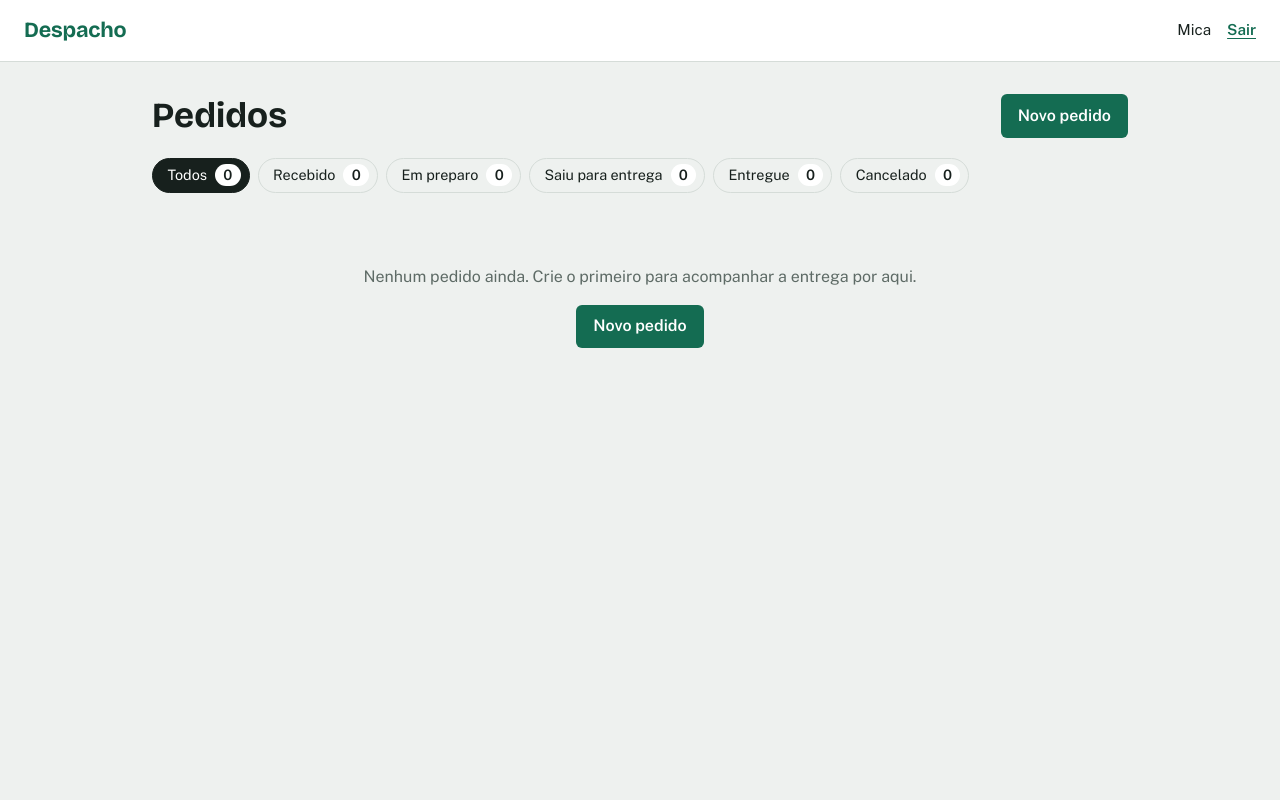
OrdersPage › com o painel aberto, o resto da tela fica inerte, e ao fechar o foco volta ao botão
Step 1. Click the button "Novo pedido" in the row of "Pedidos" → (1064, 116), box x1=1001 y1=94 x2=1128 y2=138
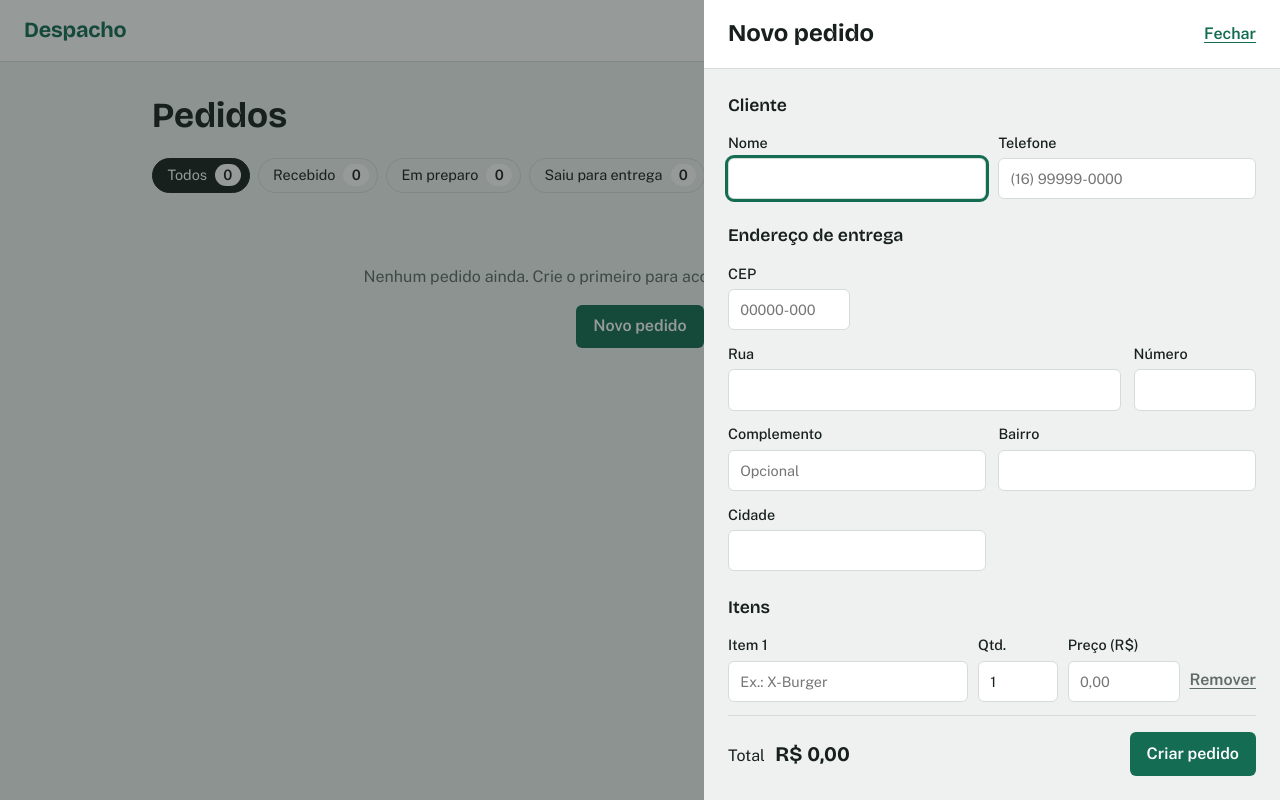
Expected: the dialog "Novo pedido" is shown, x1=704 y1=0 x2=1279 y2=799
Step 2. Press Escape
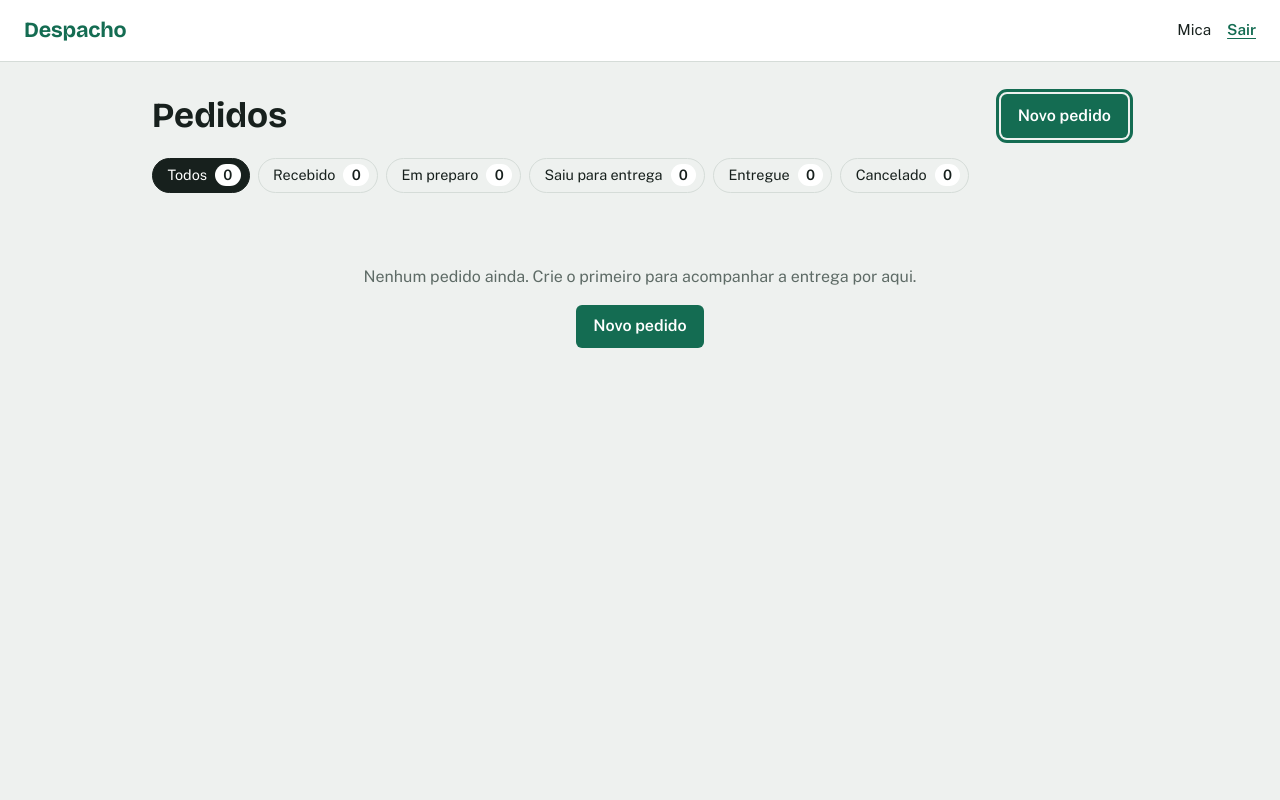
Expected: the dialog is gone
